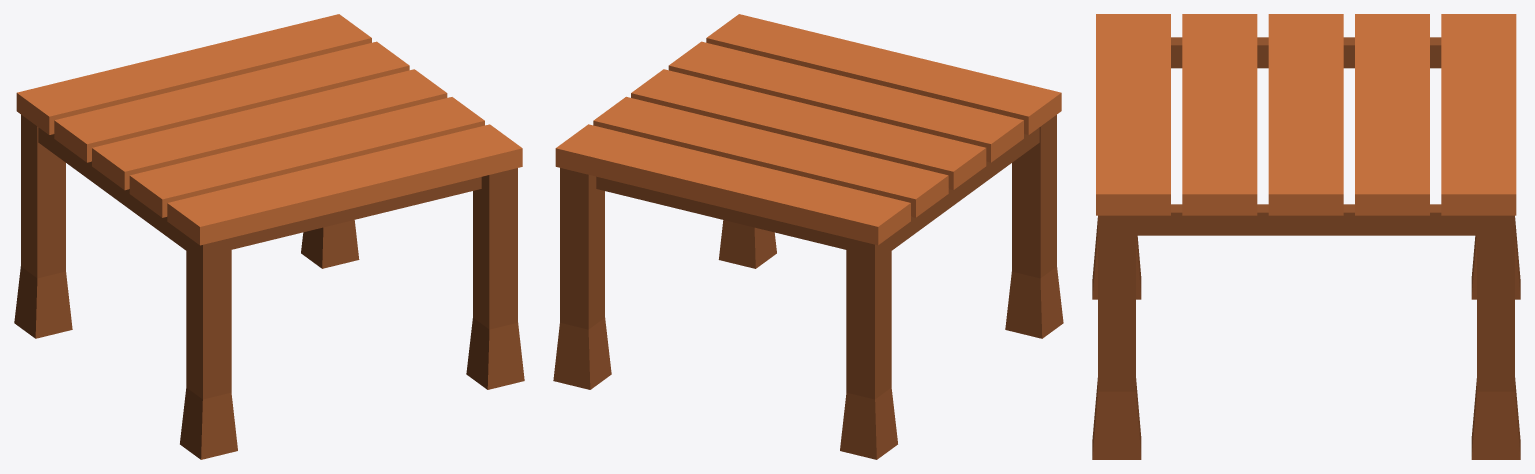
Rendered from Table 1.glb.
3 renders of one model, left to right at view 1: azimuth 30°, elevation 25°; view 2: azimuth 150°, elevation 25°; view 3: azimuth 270°, elevation 25°, orthographic. The views are drawn at different scales.
Parts seen in each view (by area): view 1: Table2; view 2: Table2; view 3: Table2.
Part boxes in pixels (x1=…): Table2: x1=14, y1=14, x2=524, y2=459; Table2: x1=553, y1=14, x2=1063, y2=459; Table2: x1=1092, y1=14, x2=1520, y2=459.
Size of the model in its own units: 0.9109 by 0.6232 by 0.9109.
